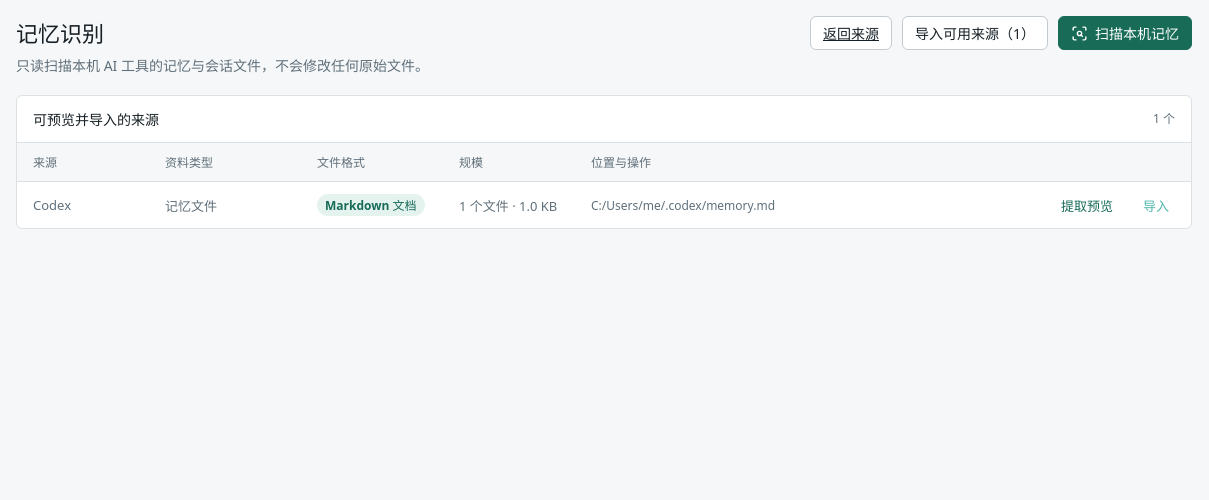
it: RecognitionView › shows an explicit empty preview result
What coordinates should you click on to do the following:
click the button "提取预览"
I would click on:
 (1087, 205)
Its box is 1055,194 -> 1119,216.
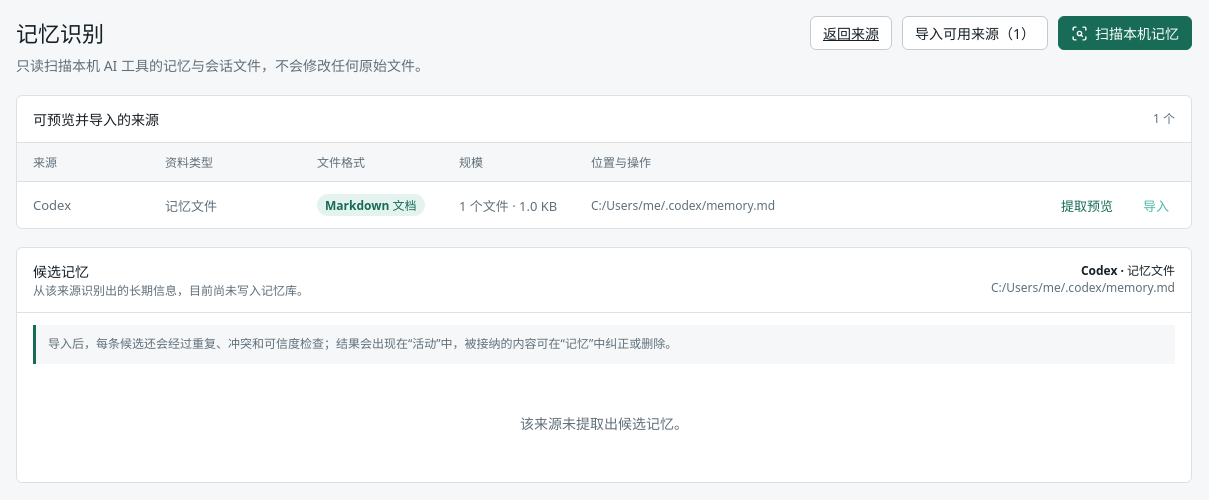
Check: the text "候选记忆" is shown, box 33,262 -> 89,281
Check: the text "该来源未提取出候选记忆" is shown, box 520,414 -> 688,433
